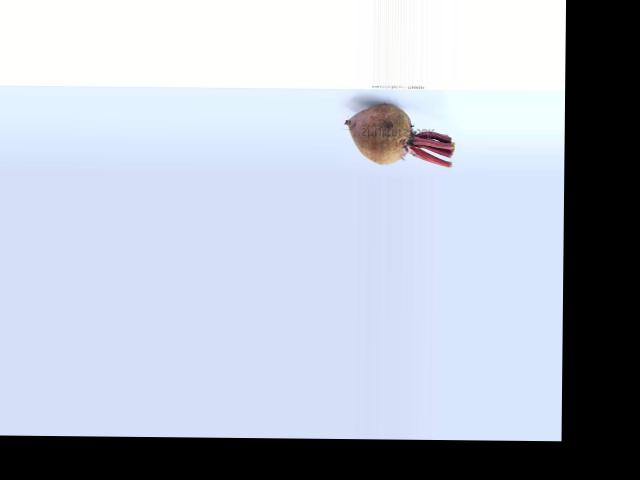beet: (346, 104, 453, 165)
